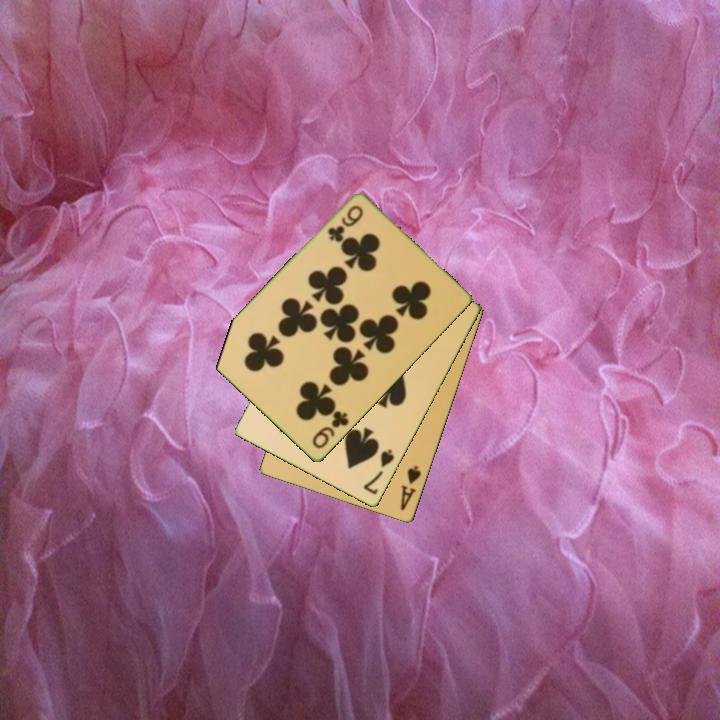7s: (360, 446, 397, 498)
9c: (308, 407, 352, 452), (324, 202, 366, 246)
As: (397, 462, 424, 514)
